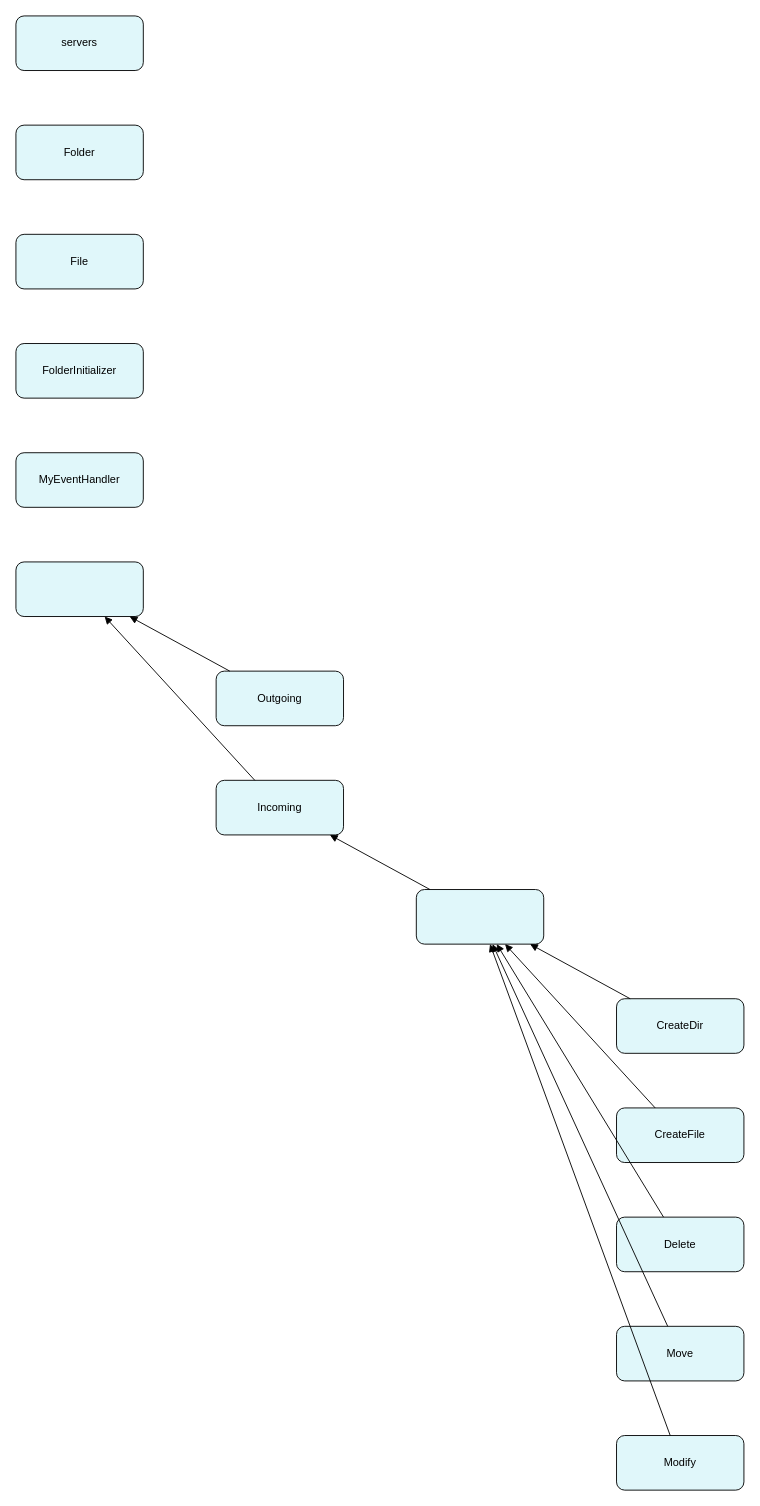
This 760x1506 diagram has some shape labels left out. The shapes that lost their labels are listed below. From the top down, each one's centre as x and y in pixels, then its label:
At (x=79, y=589): "Sync".
At (x=479, y=916): "SyncEvent".
